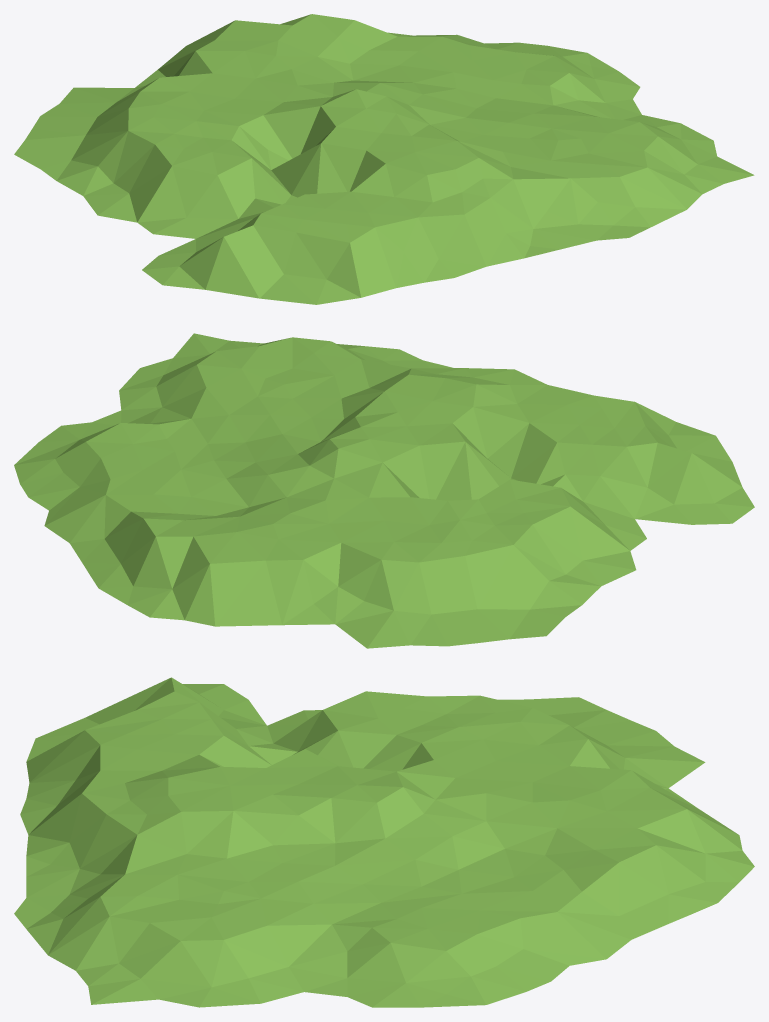
The model's file is MT_Mountain_M_b_13_LOD.fbx.
3 views of the same model, one above another, from view 1: azimuth 30°, elevation 25°; view 2: azimuth 150°, elevation 25°; view 3: azimuth 270°, elevation 25° (orthographic). The views are drawn at different scales.
Parts seen in each view (by area): view 1: MT_Mountain_M_b_13_LOD0; view 2: MT_Mountain_M_b_13_LOD0; view 3: MT_Mountain_M_b_13_LOD0.
Boxes of the visible parts, x1,y1,x2,y2 form: MT_Mountain_M_b_13_LOD0: (14,14,754,304); MT_Mountain_M_b_13_LOD0: (14,333,754,648); MT_Mountain_M_b_13_LOD0: (14,677,754,1007).
Size of what is drawn, in the model's own units: 4844 by 450 by 4688.
